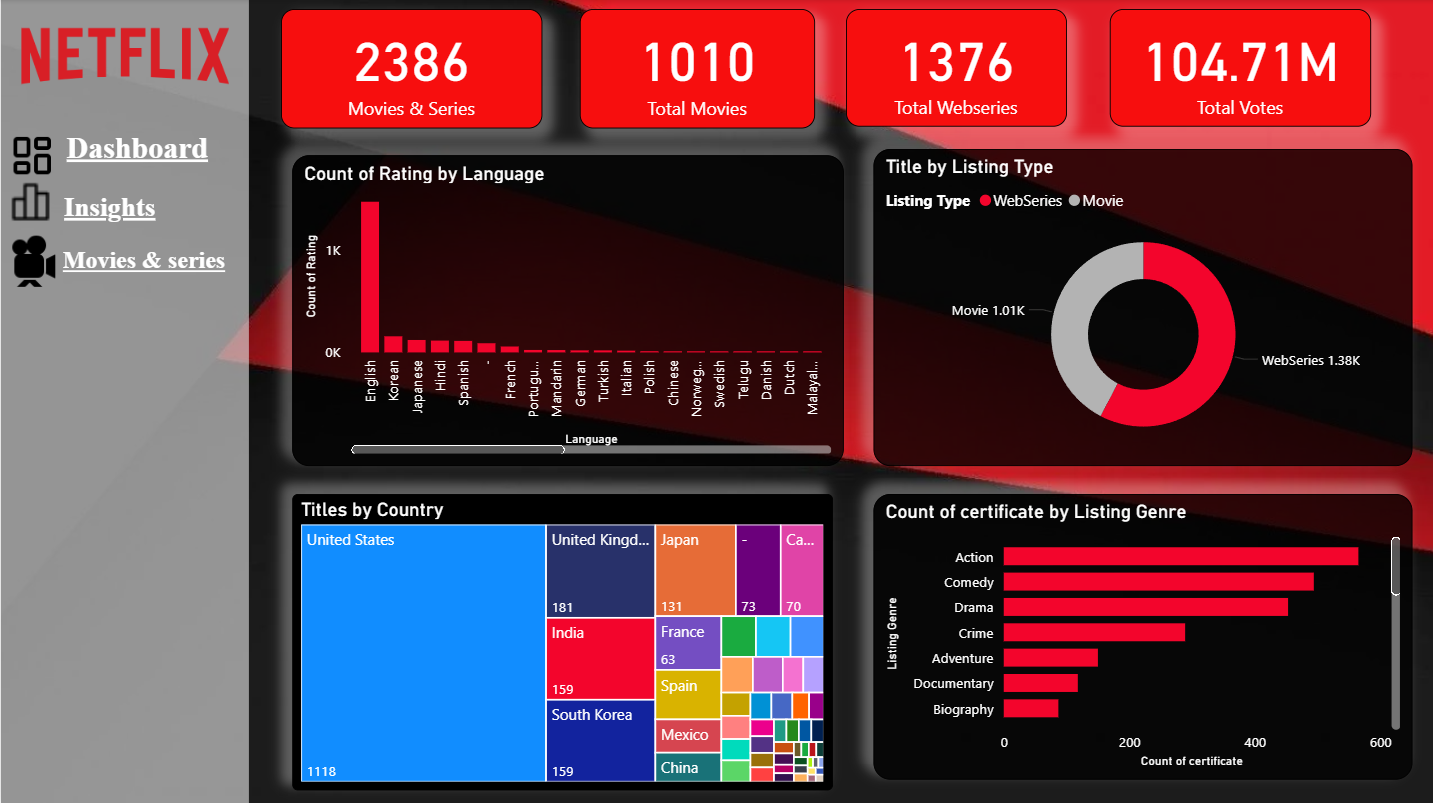

What the dashboard file says about the page in this screenshot:
{"tool":"powerbi","page":{"name":"Dashboard2","canvas":[1280,720],"ordinal":1},"visuals":[{"type":"shape","box":[0,0,220.8,720.2],"z":0},{"type":"image","box":[13.3,0,194.2,101.3],"z":1000},{"type":"card","fields":{"Values":["Calculation.Movies & Series"]},"box":[249.7,8.4,232.8,106.2],"z":2000},{"type":"card","fields":{"Values":["Calculation.Total Movies"]},"box":[515.2,8.4,209.9,106.2],"z":3000},{"type":"card","fields":{"Values":["Calculation.Total Webseries"]},"box":[752.8,8.4,196.6,105],"z":4000},{"type":"donutChart","title":"Title by Listing Type","fields":{"Category":["netflix_list.Listing Type"],"Y":["CountNonNull(netflix_list.Title)"]},"box":[776.9,133.9,480.2,282.3],"z":5000},{"type":"clusteredBarChart","fields":{"Y":["CountNonNull(netflix_list.certificate)"],"Category":["netflix_list.Listing Genre"]},"box":[776.9,440.4,480.2,254.6],"z":7000},{"type":"treemap","title":"Titles by Country","fields":{"Group":["netflix_list.Country"],"Values":["Calculation.# Titles"]},"box":[259.4,440.4,481.4,264.2],"z":8000},{"type":"clusteredColumnChart","fields":{"Category":["netflix_list.Language"],"Y":["CountNonNull(netflix_list.Rating)"]},"box":[259.4,139.1,490.9,277.2],"z":9000},{"type":"card","fields":{"Values":["Calculation.Total Votes"]},"box":[986.9,8.4,232.8,105],"z":10000},{"type":"image","box":[0,206.4,59,55.1],"z":11000},{"type":"image","box":[0,156.2,52.5,50],"z":12000},{"type":"image","box":[2.6,114.1,51.3,50],"z":13000},{"type":"textbox","box":[53.8,112.5,153.8,42.5],"z":14000},{"type":"textbox","box":[51.2,167.5,121.2,38.8],"z":15000},{"type":"textbox","box":[50,216.2,167.5,45],"z":16000}]}

Visuals, with their boxes on the page's 1280x720 design canvas (x1, y1, x2, y2). These are canvas units, not pixel positions in the 1433x803 screenshot, which may show the page scaled, cropped or inside an application window:
shape: x1=0 y1=0 x2=221 y2=720
image: x1=13 y1=0 x2=208 y2=101
card - Calculation.Movies & Series: x1=250 y1=8 x2=482 y2=115
card - Calculation.Total Movies: x1=515 y1=8 x2=725 y2=115
card - Calculation.Total Webseries: x1=753 y1=8 x2=949 y2=113
"Title by Listing Type" donutChart: x1=777 y1=134 x2=1257 y2=416
clusteredBarChart - CountNonNull(netflix_list.certificate) x netflix_list.Listing Genre: x1=777 y1=440 x2=1257 y2=695
"Titles by Country" treemap: x1=259 y1=440 x2=741 y2=705
clusteredColumnChart - netflix_list.Language x CountNonNull(netflix_list.Rating): x1=259 y1=139 x2=750 y2=416
card - Calculation.Total Votes: x1=987 y1=8 x2=1220 y2=113
image: x1=0 y1=206 x2=59 y2=262
image: x1=0 y1=156 x2=52 y2=206
image: x1=3 y1=114 x2=54 y2=164
textbox: x1=54 y1=112 x2=208 y2=155
textbox: x1=51 y1=168 x2=172 y2=206
textbox: x1=50 y1=216 x2=218 y2=261
